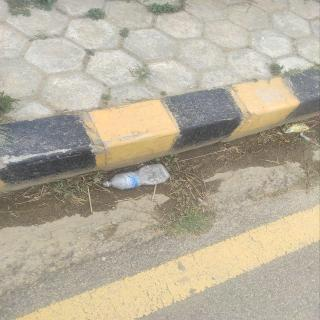Plastic-bottle: (101, 162, 173, 192)
